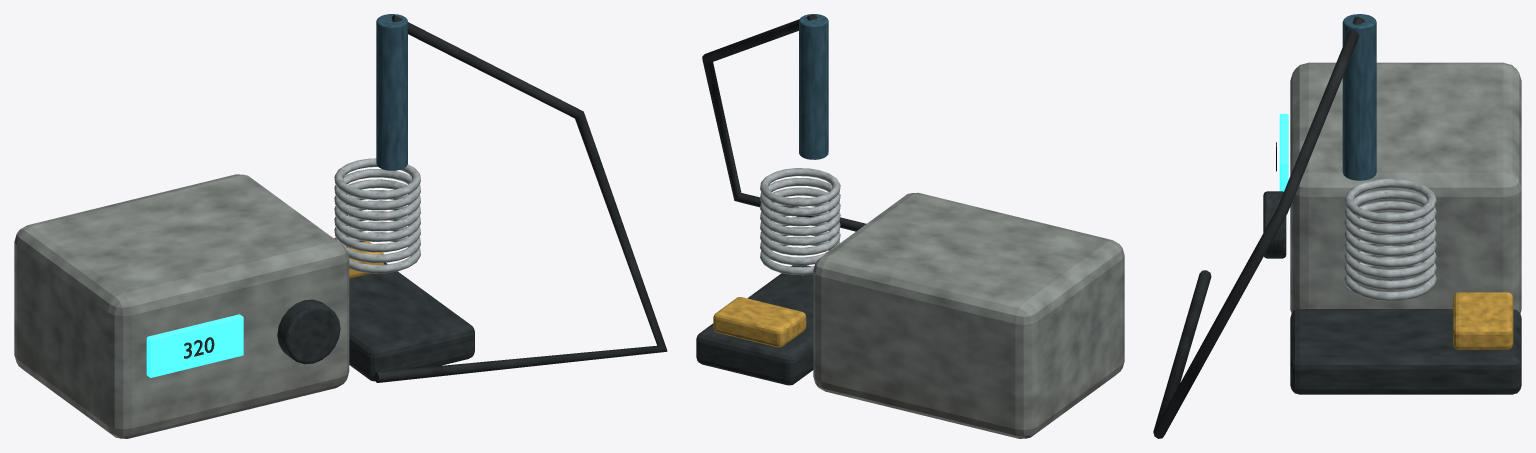
Rendered from GR_SolderStation_04.glb.
The picture shows the model from 3 angles, left to right: view 1: azimuth 30°, elevation 25°; view 2: azimuth 150°, elevation 25°; view 3: azimuth 270°, elevation 25°; orthographic projection. The views are drawn at different scales.
Visible parts, largest first — view 1: Static; view 2: Static; view 3: Static.
Part boxes in pixels (x1,y1,x2,y2): Static: (14,14,667,438); Static: (696,14,1124,438); Static: (1153,14,1521,438).
Size of the model in its own units: 0.3878 by 0.2534 by 0.2388.
2 materials, 2 textured.
